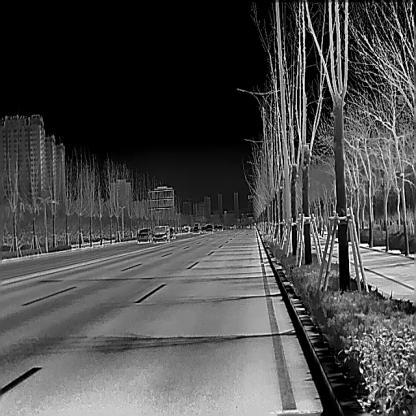car: (153, 225, 169, 242), (137, 228, 152, 242), (169, 227, 176, 239), (205, 224, 212, 232), (192, 226, 199, 233), (213, 224, 218, 231), (217, 224, 222, 231)
